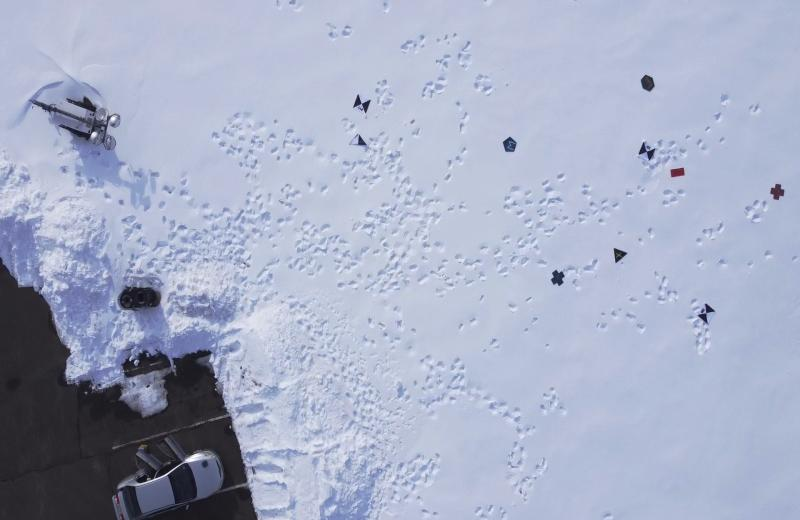Cross: (549, 268, 566, 286), (769, 183, 785, 201)
Hexagon: (639, 74, 655, 93)
Pentagon: (501, 135, 518, 156)
Rectangle: (668, 165, 686, 178)
Triangle: (612, 245, 628, 266)
